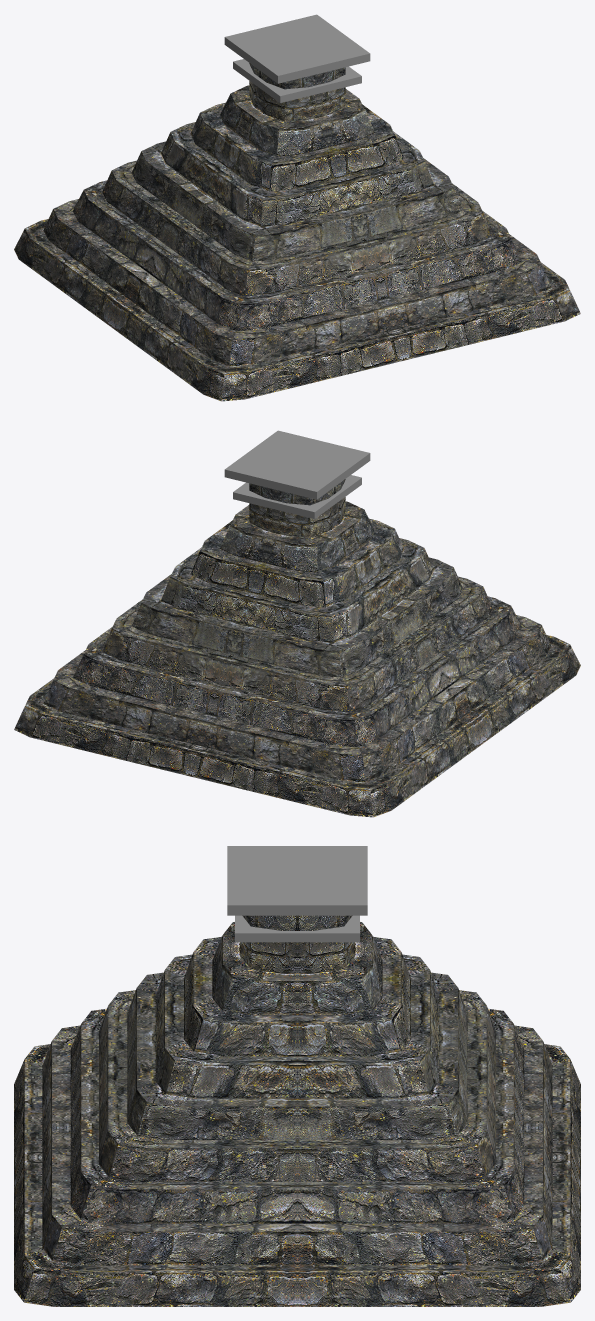
The model's file is Aztec02.FBX.
3 renders of one model, top to bottom at view 1: azimuth 30°, elevation 25°; view 2: azimuth 150°, elevation 25°; view 3: azimuth 270°, elevation 25°, orthographic. The views are drawn at different scales.
Visible parts, largest first — view 1: aztecpy02; view 2: aztecpy02; view 3: aztecpy02.
Part boxes in pixels (x1,y1,x2,y2): aztecpy02: (14,14,580,401); aztecpy02: (14,430,580,817); aztecpy02: (14,846,580,1306).
Size of the model in its own units: 3937 by 2387 by 3938.
